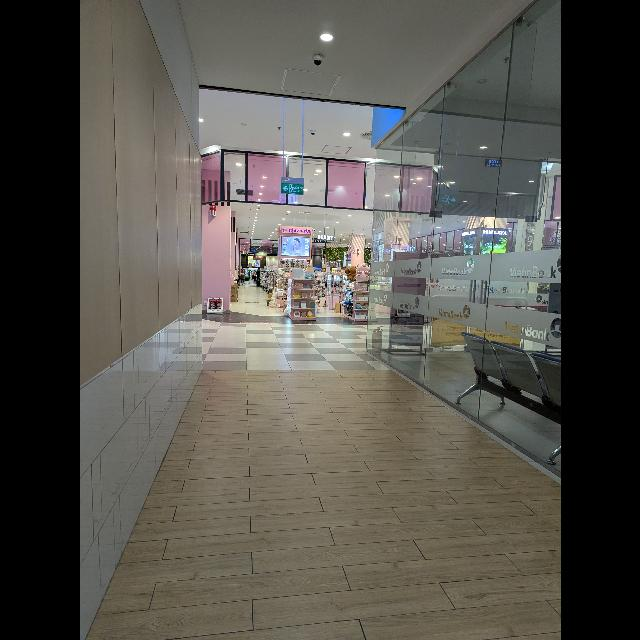exit: (280, 181, 303, 195)
